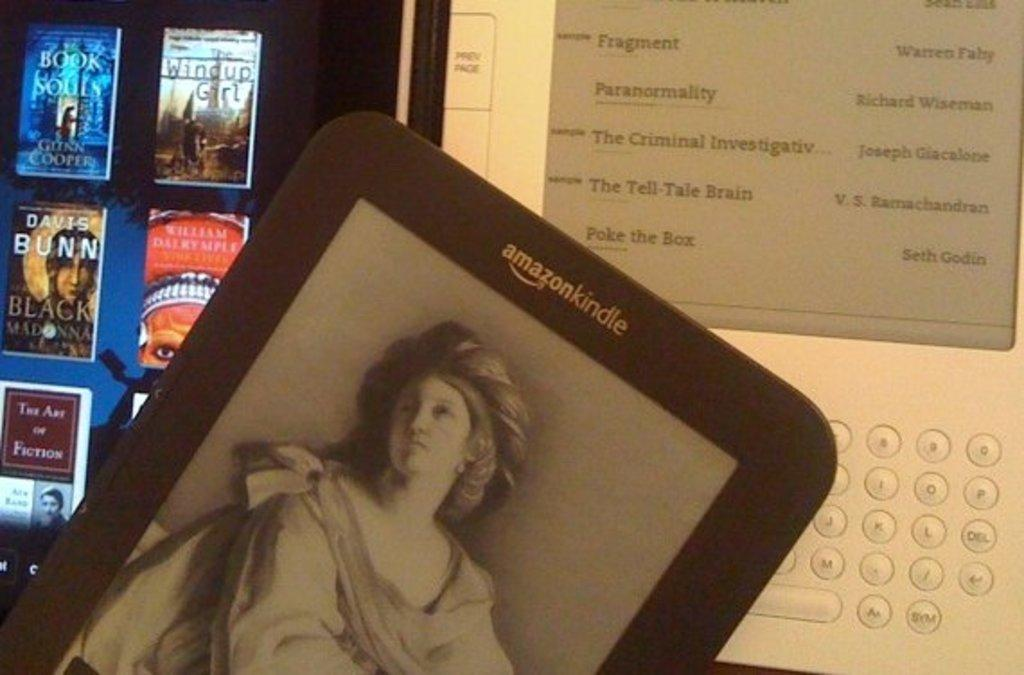Luggage-and-bags: (2, 107, 839, 673)
